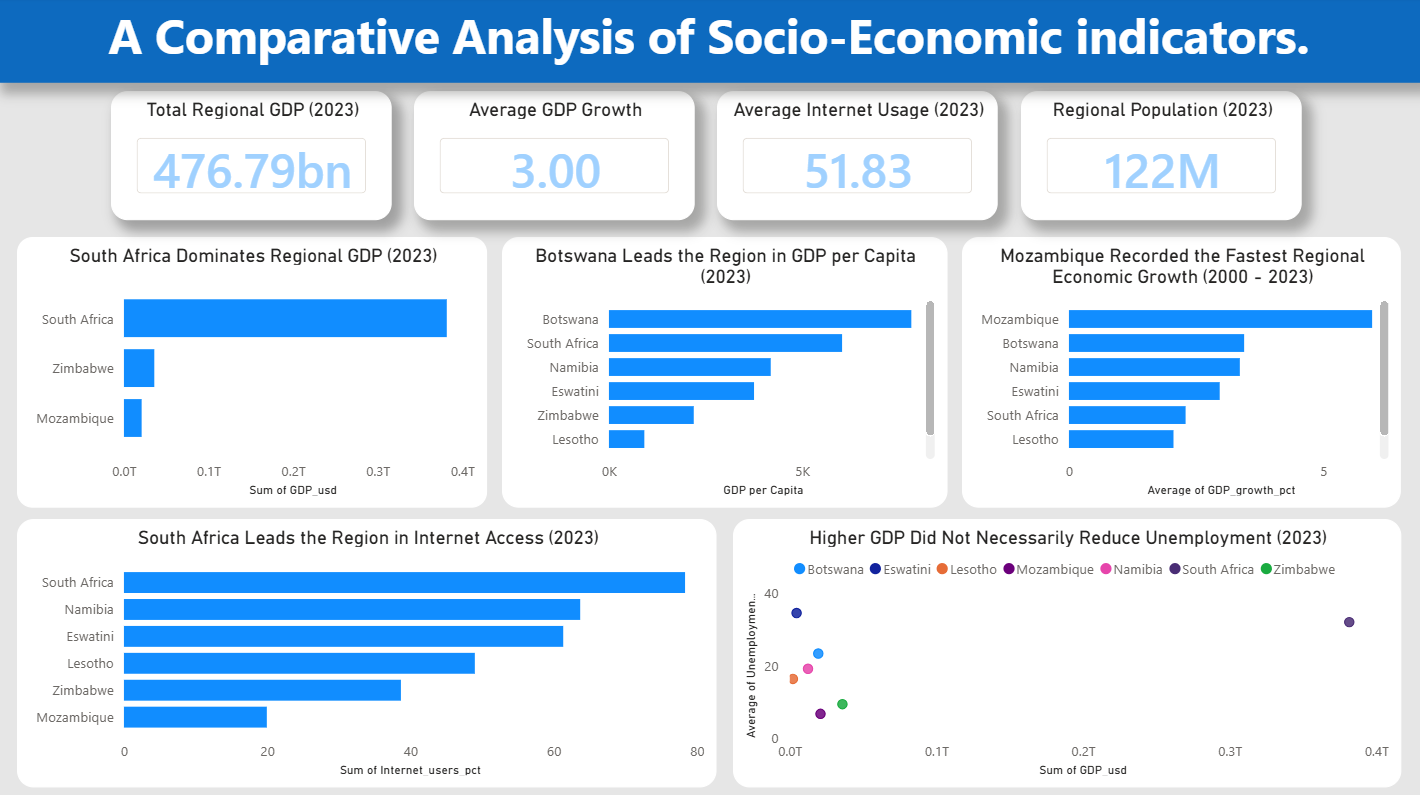

The page's visual inventory and layout, read from the dashboard file:
{"tool":"powerbi","page":{"name":"Regional Insights Dashboard","canvas":[1280,720],"ordinal":0},"visuals":[{"type":"clusteredBarChart","title":"Botswana Leads the Region in GDP per Capita (2023)","fields":{"Category":["countries.Country_name"],"Y":["gdp.GDP per Capita"]},"box":[454.3,215.5,399.5,243.3],"z":0},{"type":"clusteredBarChart","title":"South Africa Dominates Regional GDP (2023)","fields":{"Category":["countries.Country_name"],"Y":["Sum(gdp.GDP_usd)"]},"box":[18.9,215.5,421.9,243.3],"z":1000},{"type":"clusteredBarChart","title":"Mozambique Recorded the Fastest Regional Economic Growth (2000 - 2023)","fields":{"Category":["countries.Country_name"],"Y":["Avg(gdp.GDP_growth_pct)"]},"box":[867.2,215.5,394.1,243.3],"z":2000},{"type":"clusteredBarChart","title":"South Africa Leads the Region in Internet Access (2023)","fields":{"Category":["countries.Country_name"],"Y":["Sum(technology.Internet_users_pct)"]},"box":[18.9,468.6,628.4,241.5],"z":3000},{"type":"scatterChart","title":"Higher GDP Did Not Necessarily Reduce Unemployment (2023)","fields":{"X":["Sum(gdp.GDP_usd)"],"Y":["Avg(gdp.Unemployment_rate_pct)"],"Series":["countries.Country_name"]},"box":[661.6,468.6,599.7,241.5],"z":4000},{"type":"cardVisual","title":"Total Regional GDP (2023)","fields":{"Data":["Sum(gdp.GDP_usd)"]},"box":[103.2,84.4,252.3,115.8],"z":5000},{"type":"cardVisual","title":"Average GDP Growth","fields":{"Data":["Avg(gdp.GDP_growth_pct)"]},"box":[375.3,84.4,252.3,115.8],"z":6000},{"type":"cardVisual","title":"Average Internet Usage (2023)","fields":{"Data":["Avg(technology.Internet_users_pct)"]},"box":[647.3,84.4,252.3,115.8],"z":7000},{"type":"cardVisual","title":"Regional Population (2023)","fields":{"Data":["Sum(population_health.Population_total)"]},"box":[920.2,84.4,252.3,115.8],"z":8000},{"type":"textbox","box":[0,0,1280.2,77.2],"z":9000}]}

Visuals, with their boxes in screenshot pixels (x1, y1, x2, y2), scaled from the page's 1280x720 canvas onto the 1420x795 screenshot:
"Botswana Leads the Region in GDP per Capita (2023)" clusteredBarChart: crop(504, 238, 947, 507)
"South Africa Dominates Regional GDP (2023)" clusteredBarChart: crop(21, 238, 489, 507)
"Mozambique Recorded the Fastest Regional Economic Growth (2000 - 2023)" clusteredBarChart: crop(962, 238, 1399, 507)
"South Africa Leads the Region in Internet Access (2023)" clusteredBarChart: crop(21, 517, 718, 784)
"Higher GDP Did Not Necessarily Reduce Unemployment (2023)" scatterChart: crop(734, 517, 1399, 784)
"Total Regional GDP (2023)" cardVisual: crop(114, 93, 394, 221)
"Average GDP Growth" cardVisual: crop(416, 93, 696, 221)
"Average Internet Usage (2023)" cardVisual: crop(718, 93, 998, 221)
"Regional Population (2023)" cardVisual: crop(1021, 93, 1301, 221)
textbox: crop(0, 0, 1419, 85)
